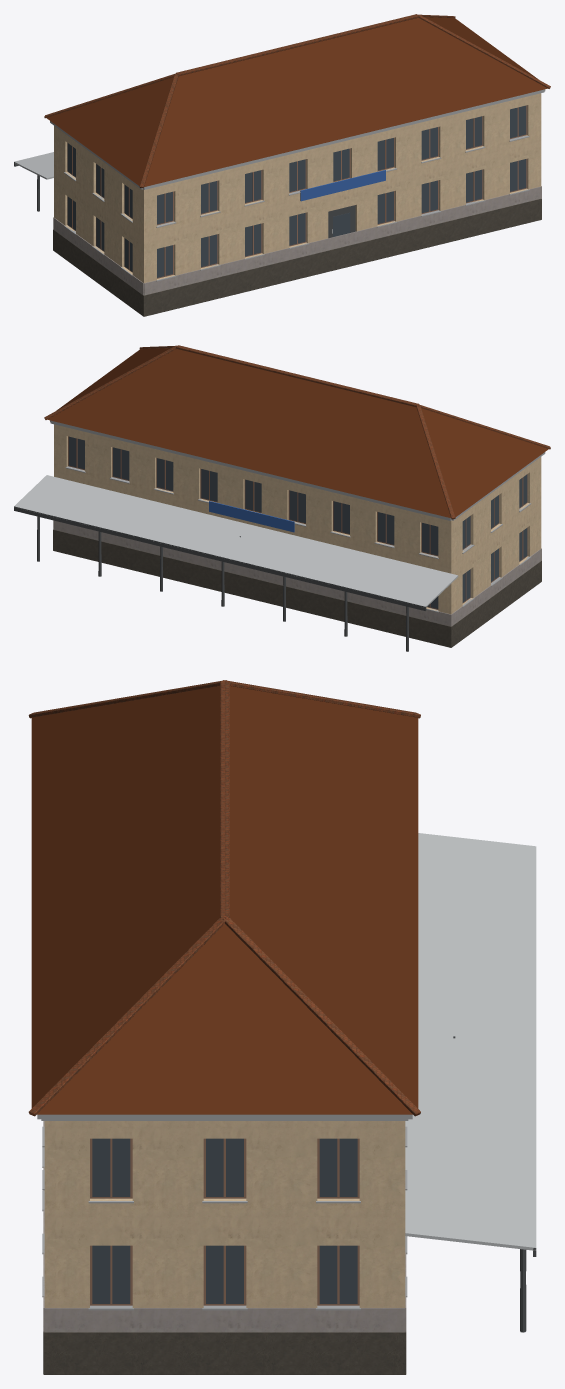
The model's file is station.glb.
3 views of the same model, one above another, from view 1: azimuth 30°, elevation 25°; view 2: azimuth 150°, elevation 25°; view 3: azimuth 270°, elevation 25° (orthographic). The views are drawn at different scales.
Visible parts, largest first — view 1: station-plaster0; view 2: station-plaster0; view 3: station-plaster0.
Part boxes in pixels (bbox=[...]): station-plaster0: bbox=[14, 14, 550, 316]; station-plaster0: bbox=[14, 345, 550, 651]; station-plaster0: bbox=[28, 680, 536, 1374].
Size of the model in its own units: 29 by 12.87 by 15.49.
11 materials, 5 textured.
